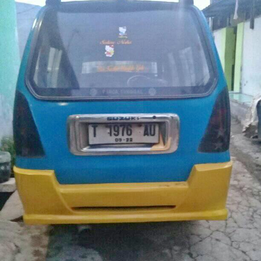plate: (87, 118, 163, 147)
